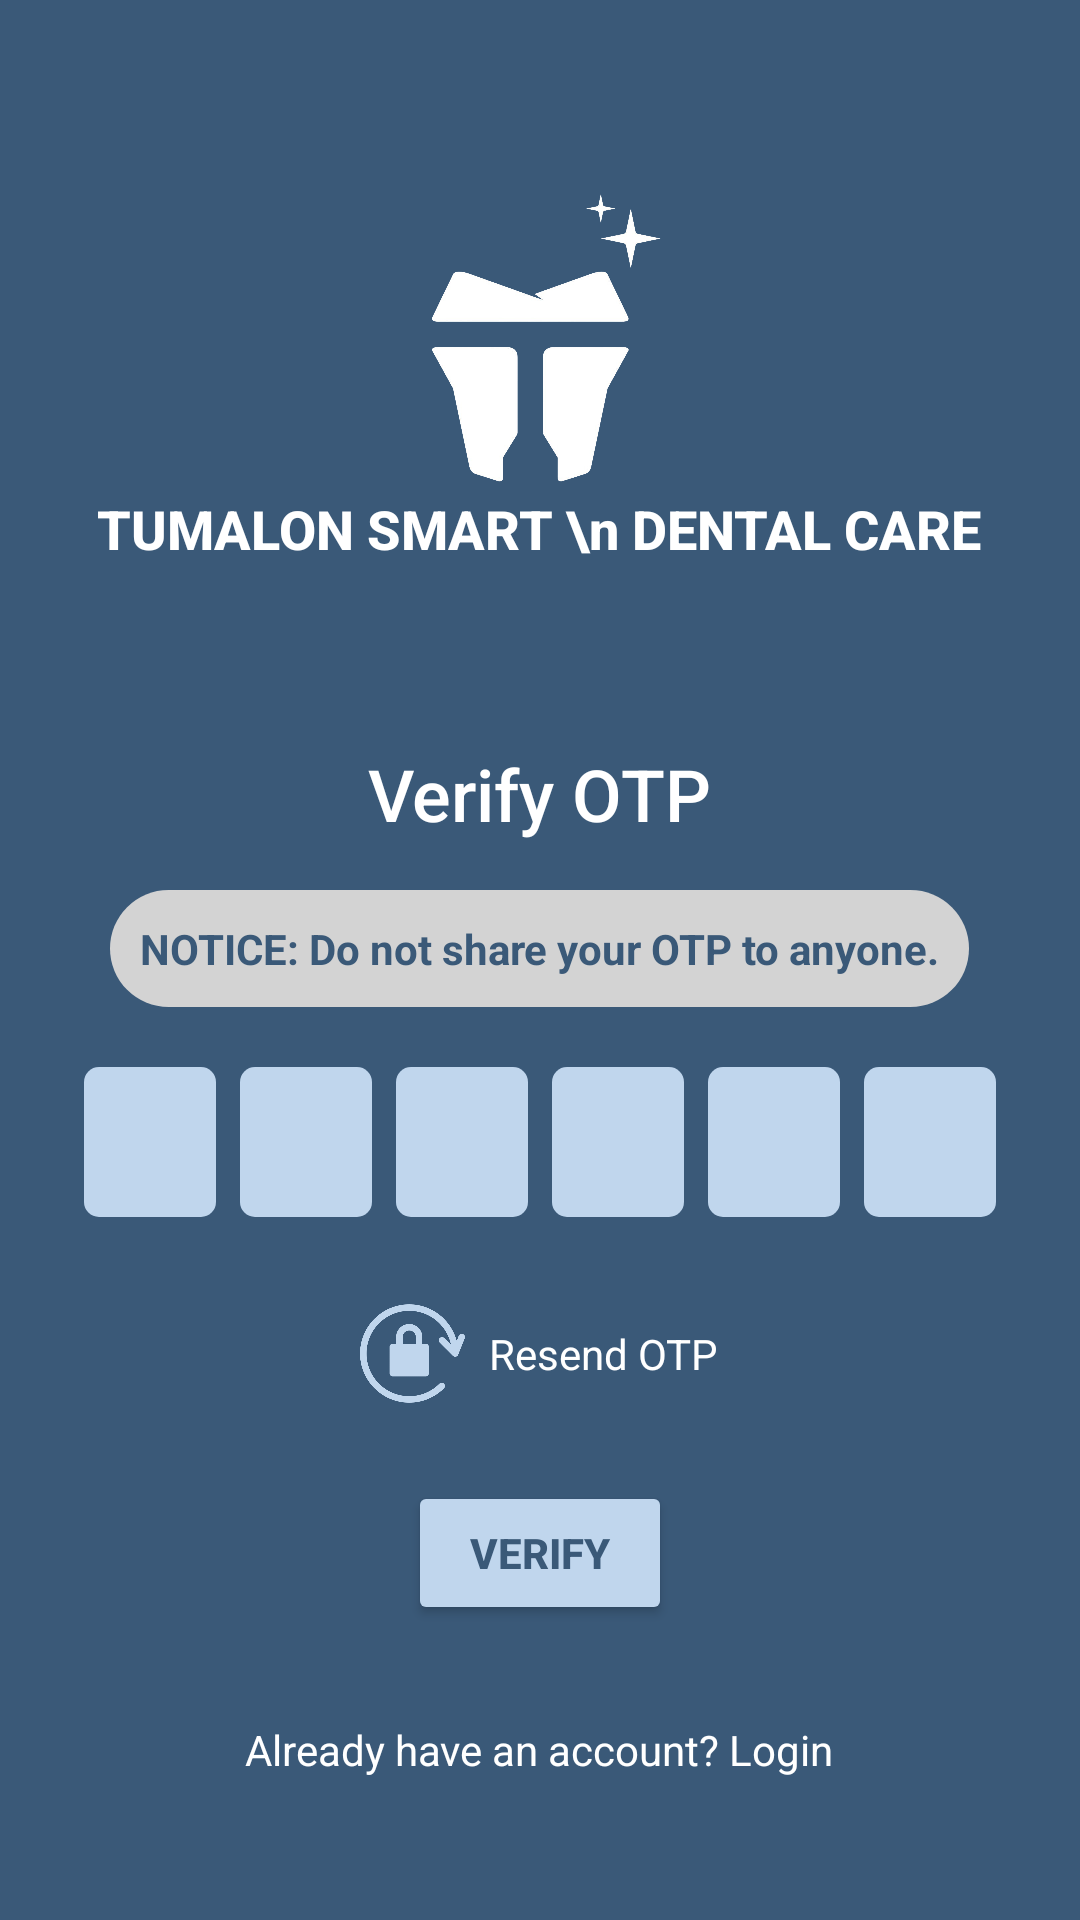

Icon click points for this 1080px x 1920px phone screenshot, format point (x, y):
reset lblue: point (412, 1353)
